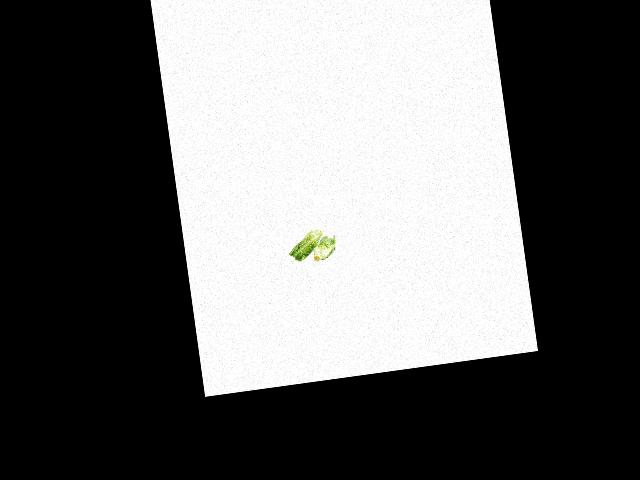lettuce: (287, 226, 340, 270)
